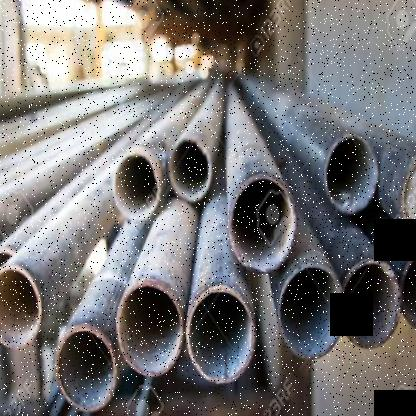pipe: (230, 176, 297, 274), (278, 264, 346, 360), (186, 289, 254, 384), (117, 278, 182, 377), (56, 323, 118, 414), (343, 258, 402, 349), (324, 134, 378, 213), (0, 264, 42, 350), (113, 153, 159, 220), (170, 139, 212, 202), (399, 246, 416, 335), (401, 152, 416, 243)
